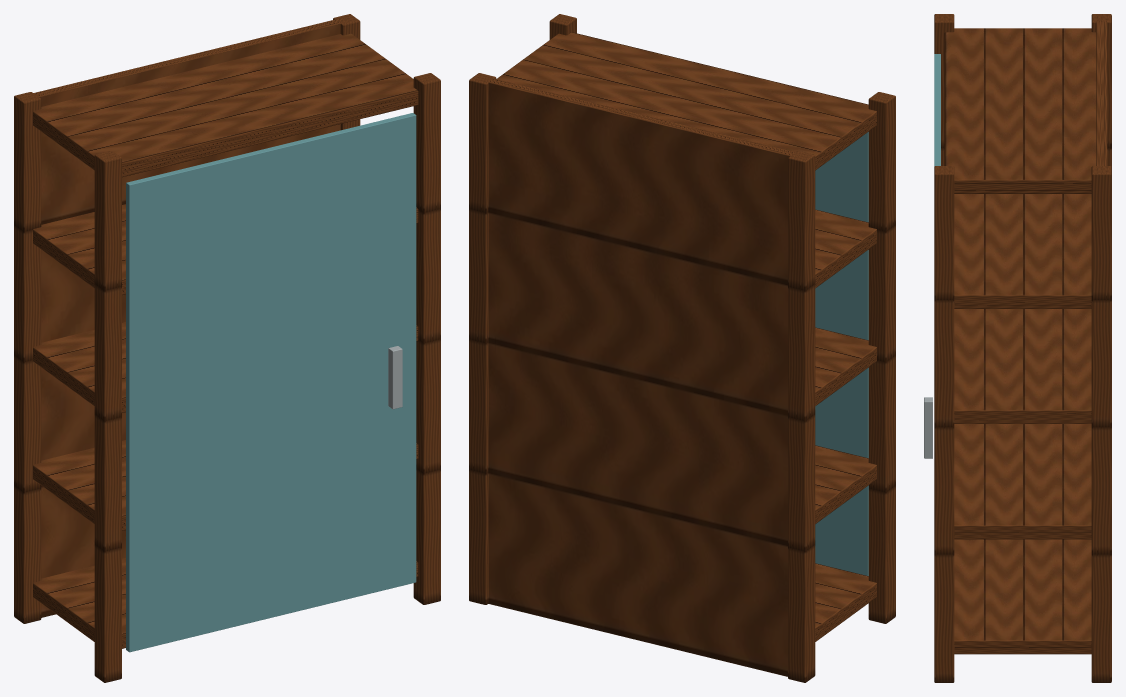
Rendered from research-and-crafting-progression-specimen-cabinet-b486ad0c__2861.glb.
The picture shows the model from 3 angles, left to right: view 1: azimuth 30°, elevation 25°; view 2: azimuth 150°, elevation 25°; view 3: azimuth 270°, elevation 25°; orthographic projection. The views are drawn at different scales.
Visible parts, largest first — view 1: door/water, specimen-cabinet; view 2: specimen-cabinet, door/water; view 3: specimen-cabinet, door/water.
Part boxes in pixels (bbox=[...]): door/water: bbox=[126, 113, 416, 652]; specimen-cabinet: bbox=[14, 14, 440, 682]; specimen-cabinet: bbox=[469, 14, 895, 682]; door/water: bbox=[815, 132, 868, 575]; specimen-cabinet: bbox=[924, 14, 1111, 682]; door/water: bbox=[934, 54, 940, 166].
Size of the model in its own units: 0.845 by 1.25 by 0.4175.
Materials: 3 (1 with a texture image).
